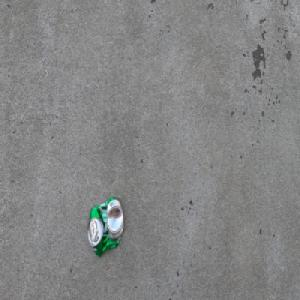SodaCan: (87, 196, 124, 257)
